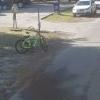Car: (68, 1, 99, 22)
